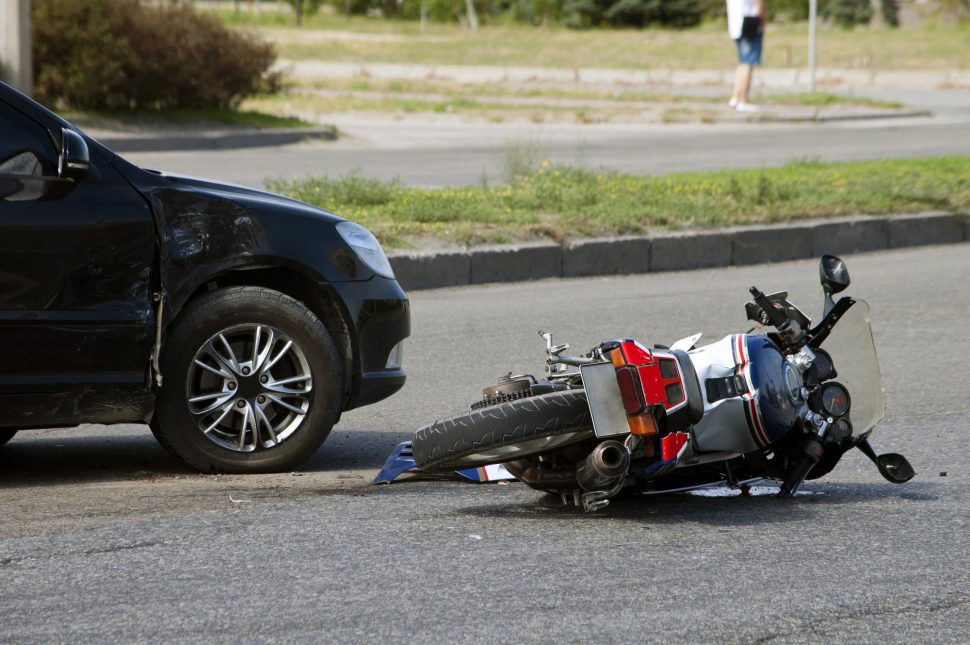motorcycle: (406, 255, 920, 510)
